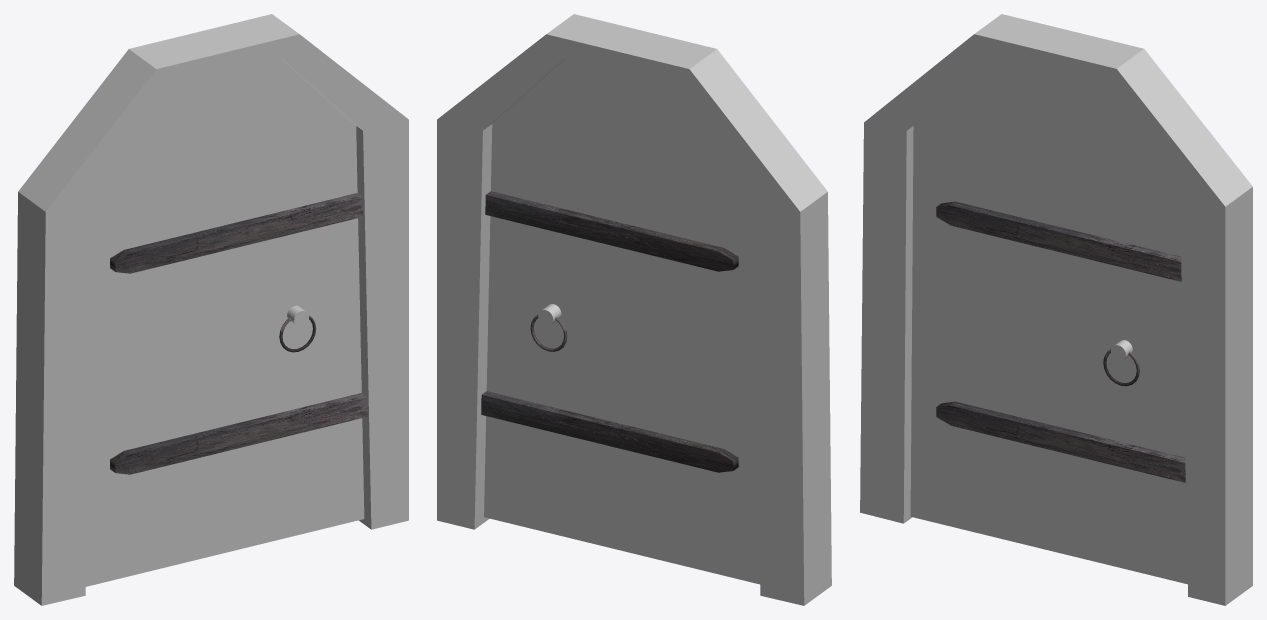
Rendered from insideDoor.fbx.
3 views of the same model, side by side, from view 1: azimuth 30°, elevation 25°; view 2: azimuth 150°, elevation 25°; view 3: azimuth 330°, elevation 25° (orthographic).
Parts seen in each view (by area): view 1: SdoorBody, doorFrame; view 2: SdoorBody, doorFrame; view 3: SdoorBody, doorFrame.
Part boxes in pixels (left/top/right/bottom): SdoorBody: left=85, top=59, right=367, bottom=586; doorFrame: left=14, top=14, right=408, bottom=605; SdoorBody: left=481, top=59, right=760, bottom=584; doorFrame: left=437, top=14, right=831, bottom=605; SdoorBody: left=910, top=59, right=1187, bottom=584; doorFrame: left=860, top=14, right=1252, bottom=605.
Size of the model in its own units: 1.7 by 2.26 by 0.2223.
